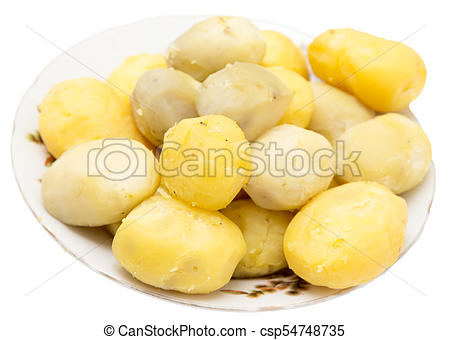boiled potatoes: (47, 21, 424, 282)
